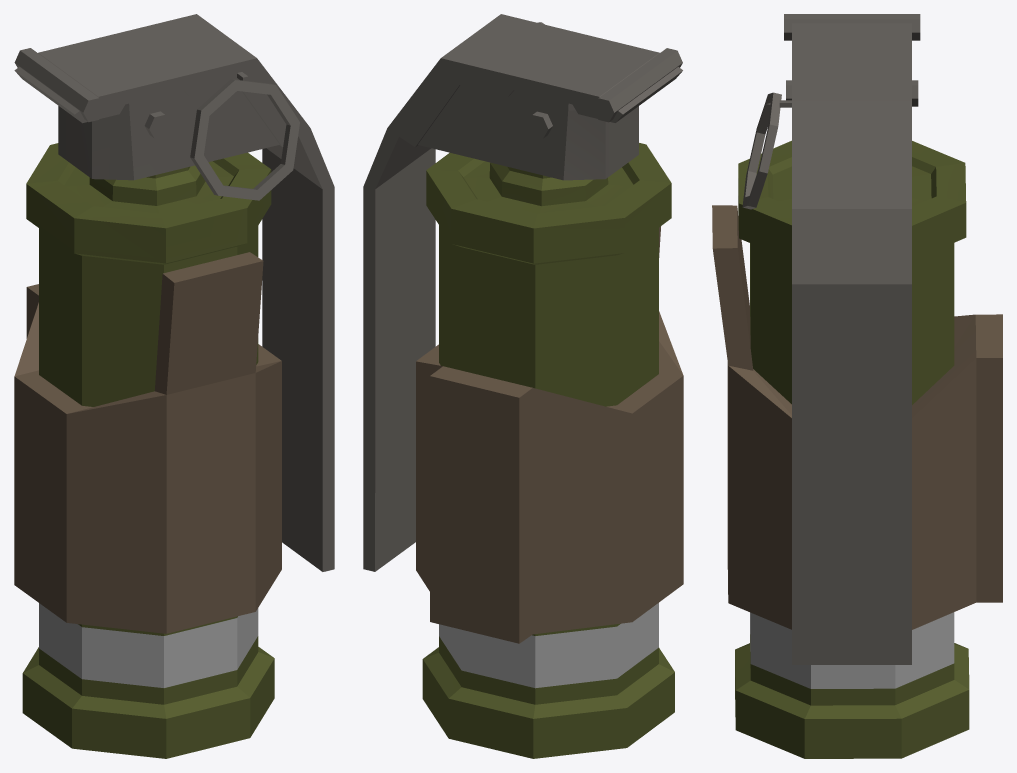
Rendered from Smoke_Greande_01_SM.FBX.
3 renders of one model, left to right at view 1: azimuth 30°, elevation 25°; view 2: azimuth 150°, elevation 25°; view 3: azimuth 270°, elevation 25°, orthographic.
Visible parts, largest first — view 1: Smoke_Greande_01_SM; view 2: Smoke_Greande_01_SM; view 3: Smoke_Greande_01_SM.
Part boxes in pixels (x1,y1,x2,y2): Smoke_Greande_01_SM: (14, 14, 334, 758); Smoke_Greande_01_SM: (363, 14, 683, 758); Smoke_Greande_01_SM: (712, 14, 1002, 758).
Size of what is drawn, in the model's own units: 5.45 by 5.22 by 12.87.
